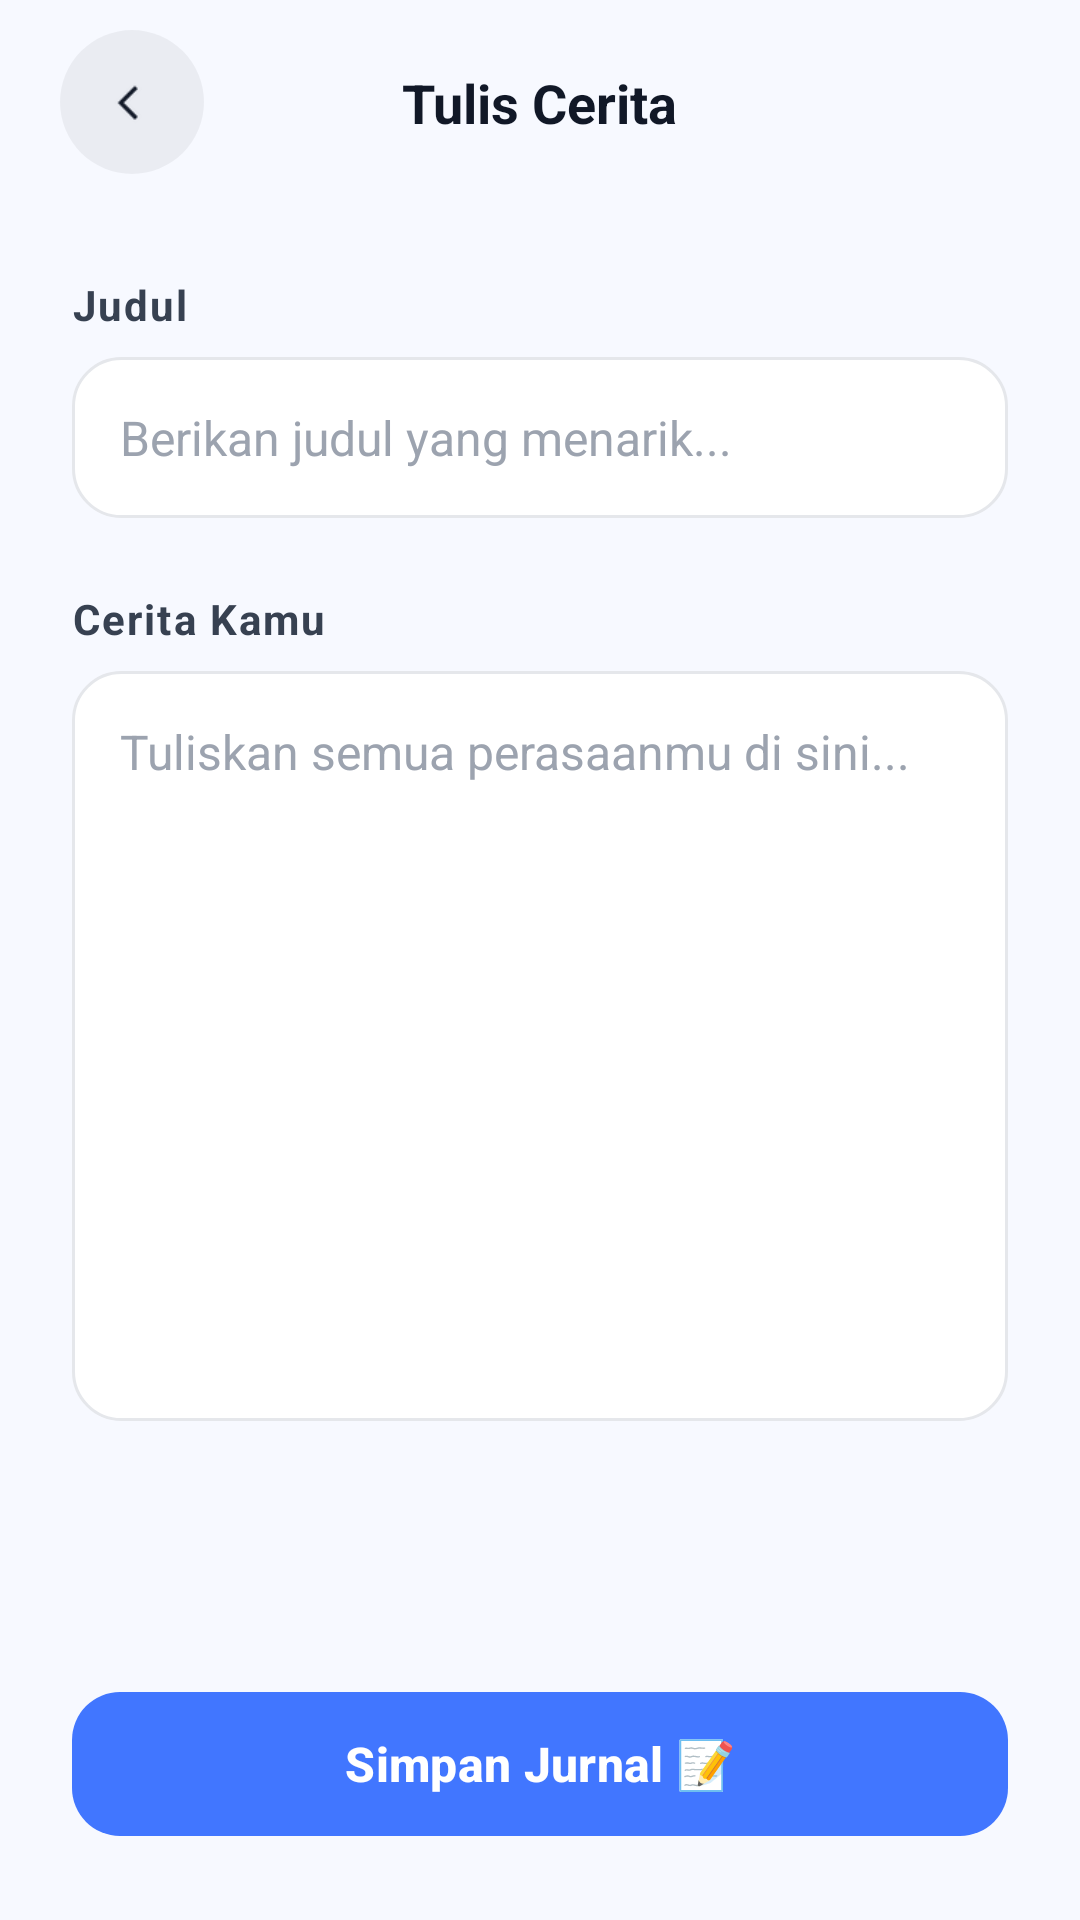

Named icons in this screenshot (1080*1920) and their centers, point (x, y):
Kembali: point (132, 102)
